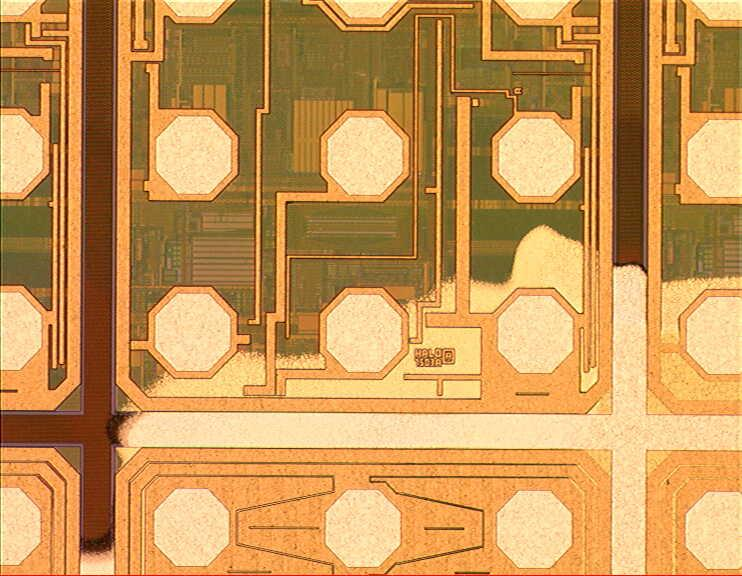COATING BAD: (79, 224, 742, 576)
